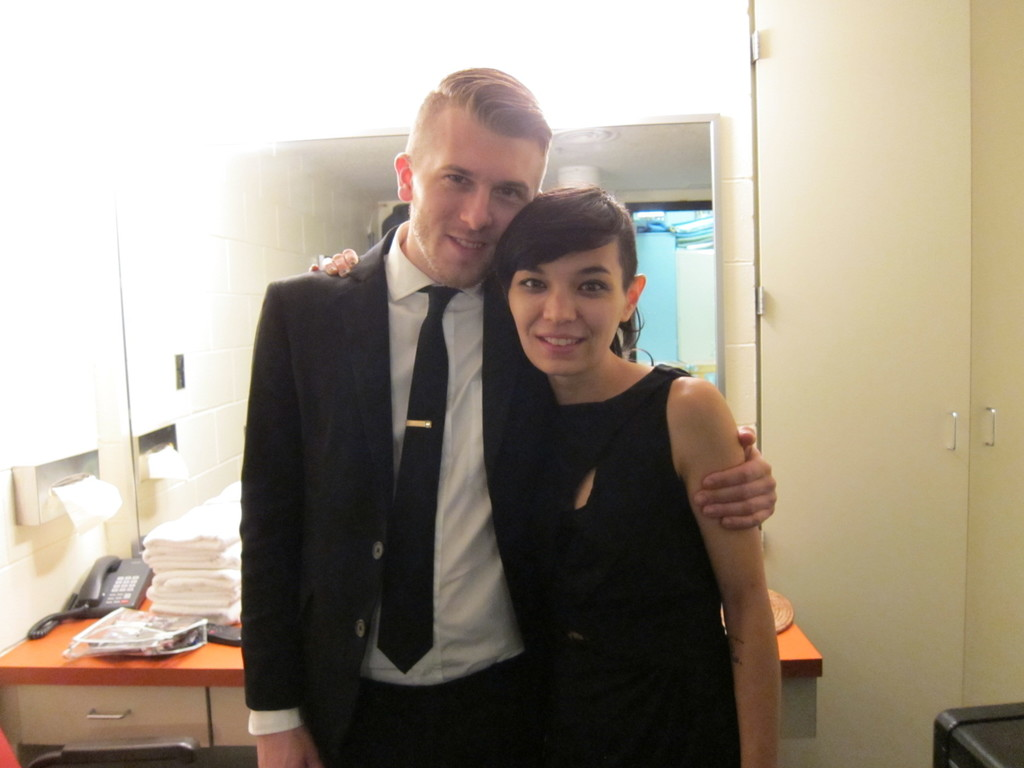Human-face: (408, 124, 546, 288), (510, 243, 621, 369)
